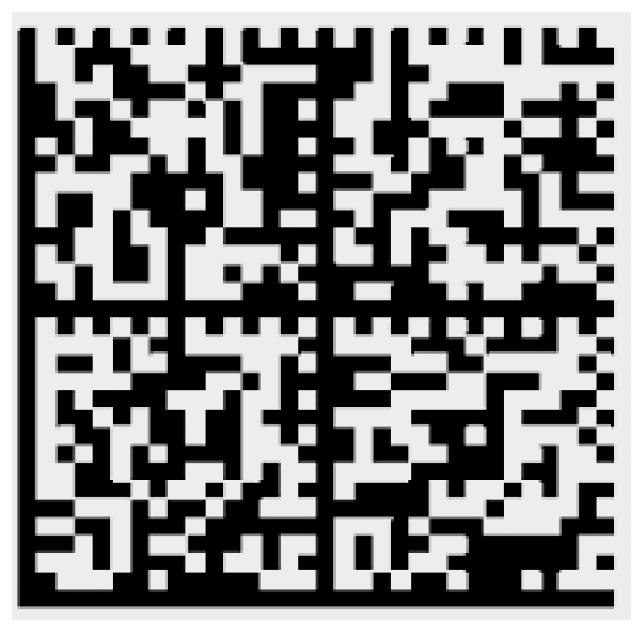DataMatrix: (12, 12, 631, 620)
